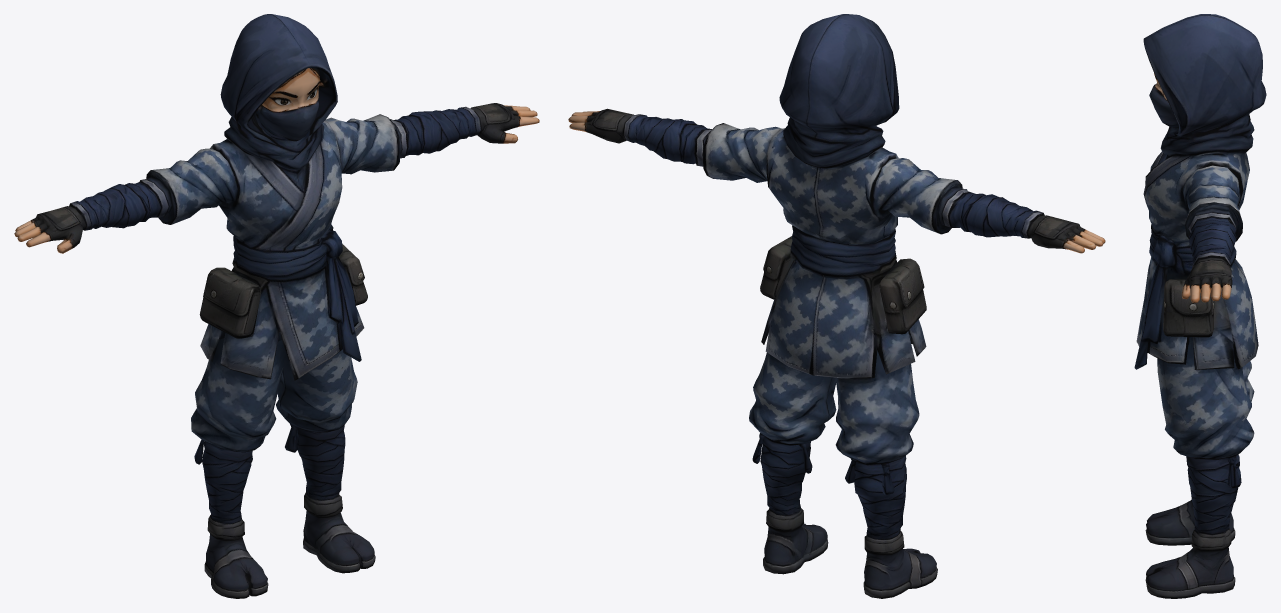
Rendered from tripo_convert_ea904ce9-50d8-448a-afc4-ce1a2c79f374.fbx.
3 views of the same model, side by side, from view 1: azimuth 30°, elevation 25°; view 2: azimuth 150°, elevation 25°; view 3: azimuth 270°, elevation 25° (orthographic). The views are drawn at different scales.
Parts seen in each view (by area): view 1: tripo_node_ea904ce9; view 2: tripo_node_ea904ce9; view 3: tripo_node_ea904ce9.
Part boxes in pixels (x1,y1,x2,y2): tripo_node_ea904ce9: (14,14,539,598); tripo_node_ea904ce9: (568,14,1105,598); tripo_node_ea904ce9: (1134,14,1266,598).
Bounding box in the file's own units: 99.66 × 21.92 × 99.95.
Materials: 1 (1 with a texture image).
